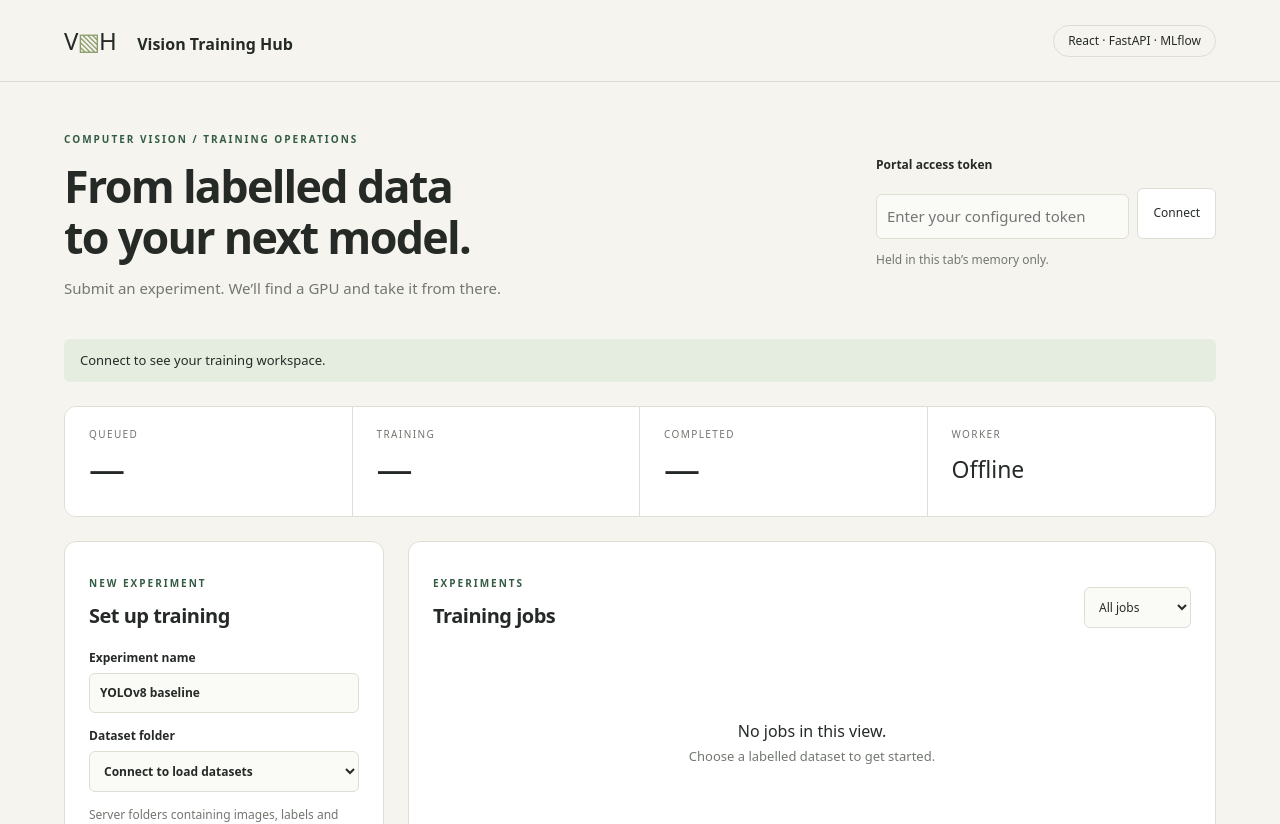
it: React training portal › submits numeric parameters to FastAPI
Type "local-token" into the password field labelled "Portal access token" at (1003,216), box [876,194,1130,239]
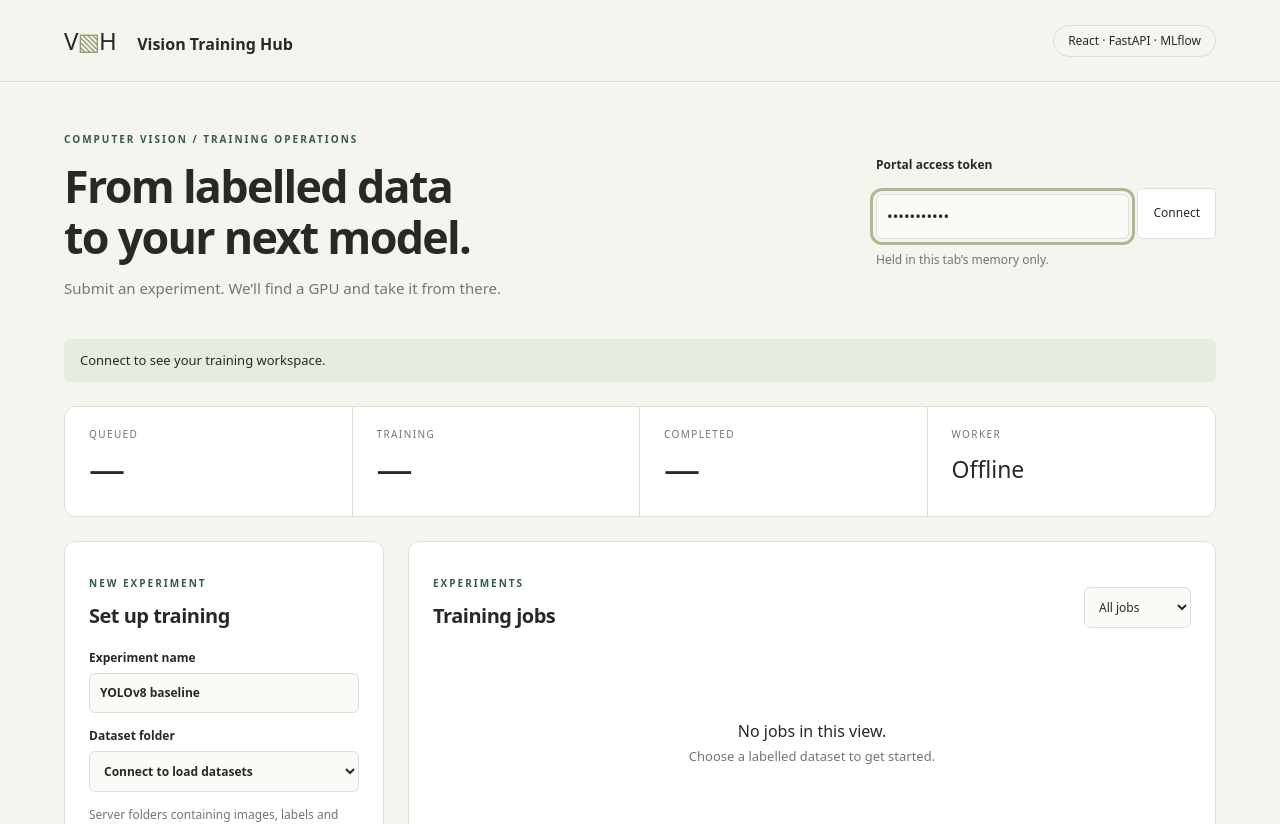
Click the button "Connect" at (1177,213), box [1138,188,1216,239]
(page scrolled)
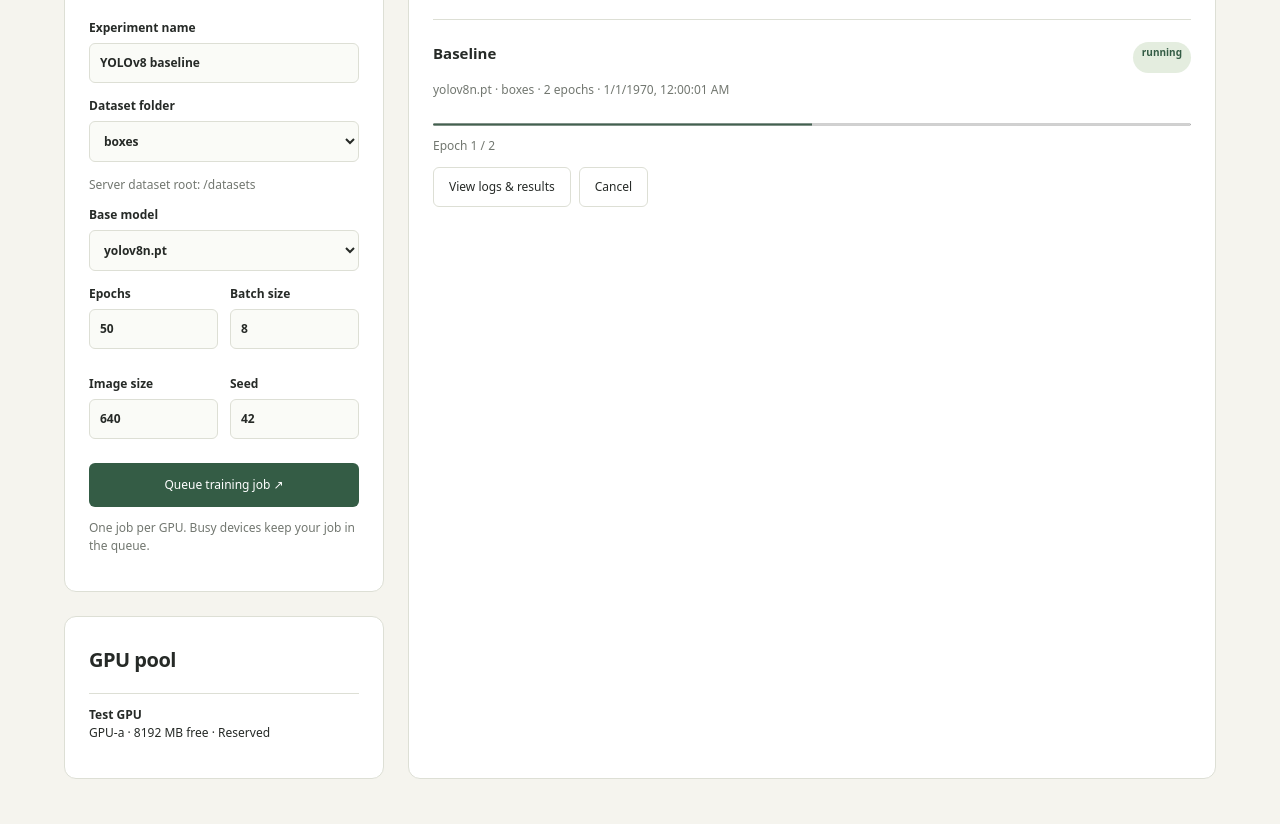
Expected: the heading "Baseline" is shown, [433,42,496,65]
Click the button "Queue training job ↗" at (224,485), box [89,463,359,507]
(page scrolled)
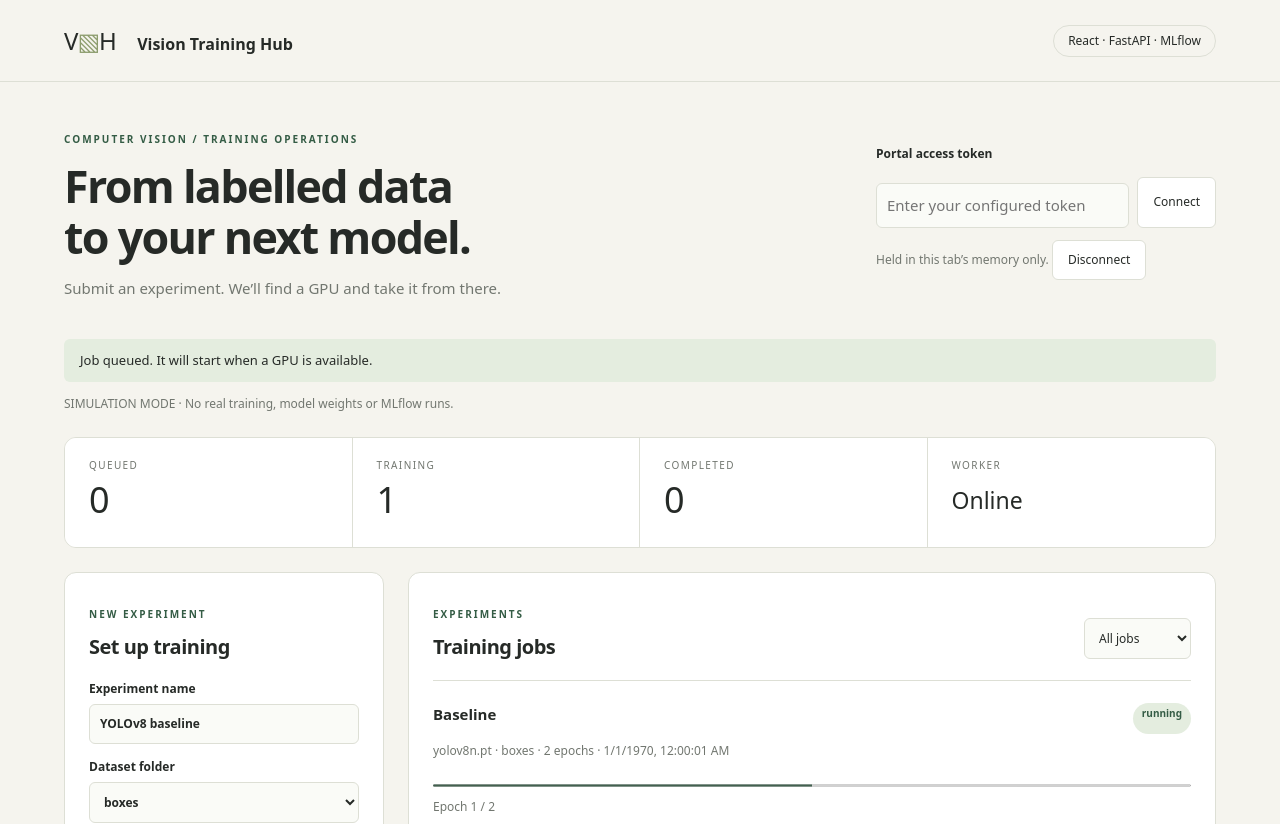
Expected: the text "Job queued. It will start when a GPU is available." is shown, [64,339,1216,382]
